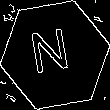N_S: (32, 27, 78, 83)
